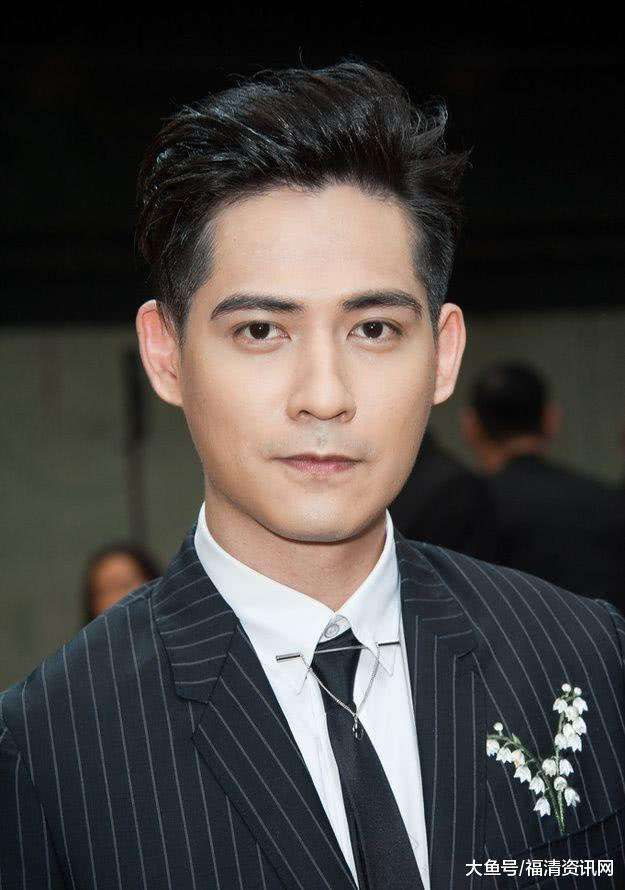person: (111, 74, 625, 834)
